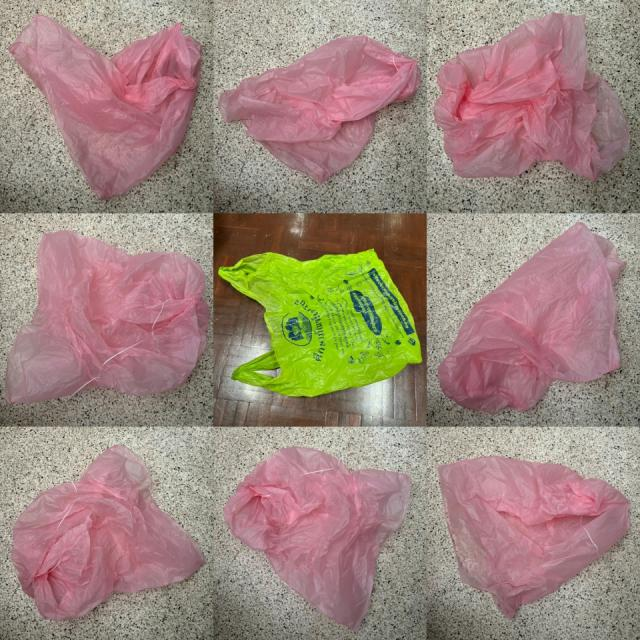Single-layer Plastic: (439, 222, 626, 412), (9, 15, 201, 199), (6, 231, 210, 404), (224, 446, 411, 631), (11, 445, 205, 620), (435, 12, 630, 181), (439, 456, 630, 619), (219, 36, 421, 182), (219, 250, 421, 396)
